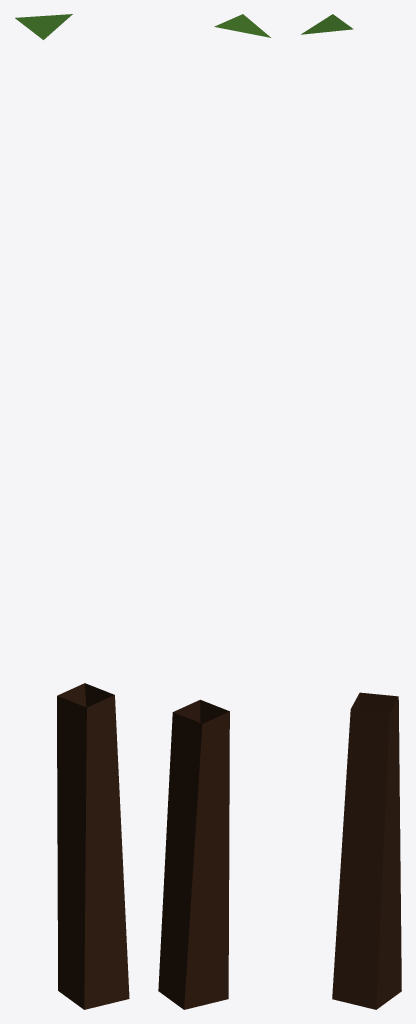
File: stump2.FBX
The picture shows the model from 3 angles, left to right: view 1: azimuth 30°, elevation 25°; view 2: azimuth 210°, elevation 25°; view 3: azimuth 330°, elevation 25°; orthographic projection. The views are drawn at different scales.
Visible parts, largest first — view 1: OakTree2; view 2: OakTree2; view 3: OakTree2.
Part boxes in pixels (<box>): OakTree2: <box>15,14,129,1009</box>; OakTree2: <box>158,14,270,1009</box>; OakTree2: <box>301,14,401,1009</box>.
Size of the model in its own units: 88.76 by 1016 by 66.1.
